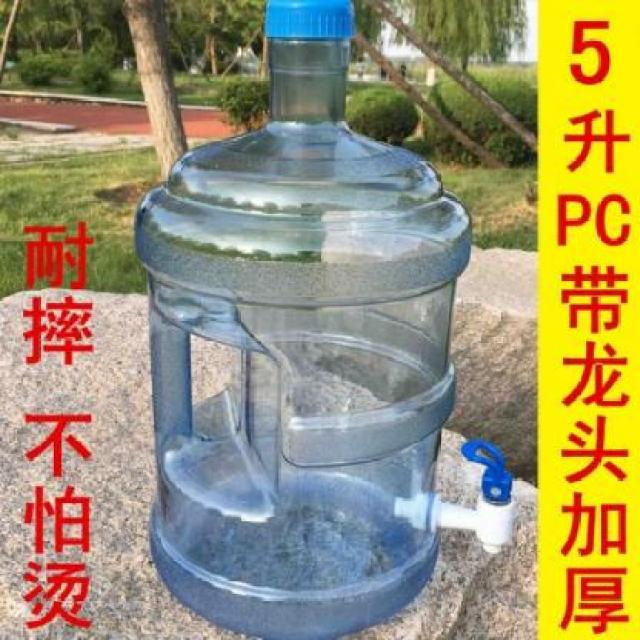coolerbottle: (131, 0, 475, 640)
